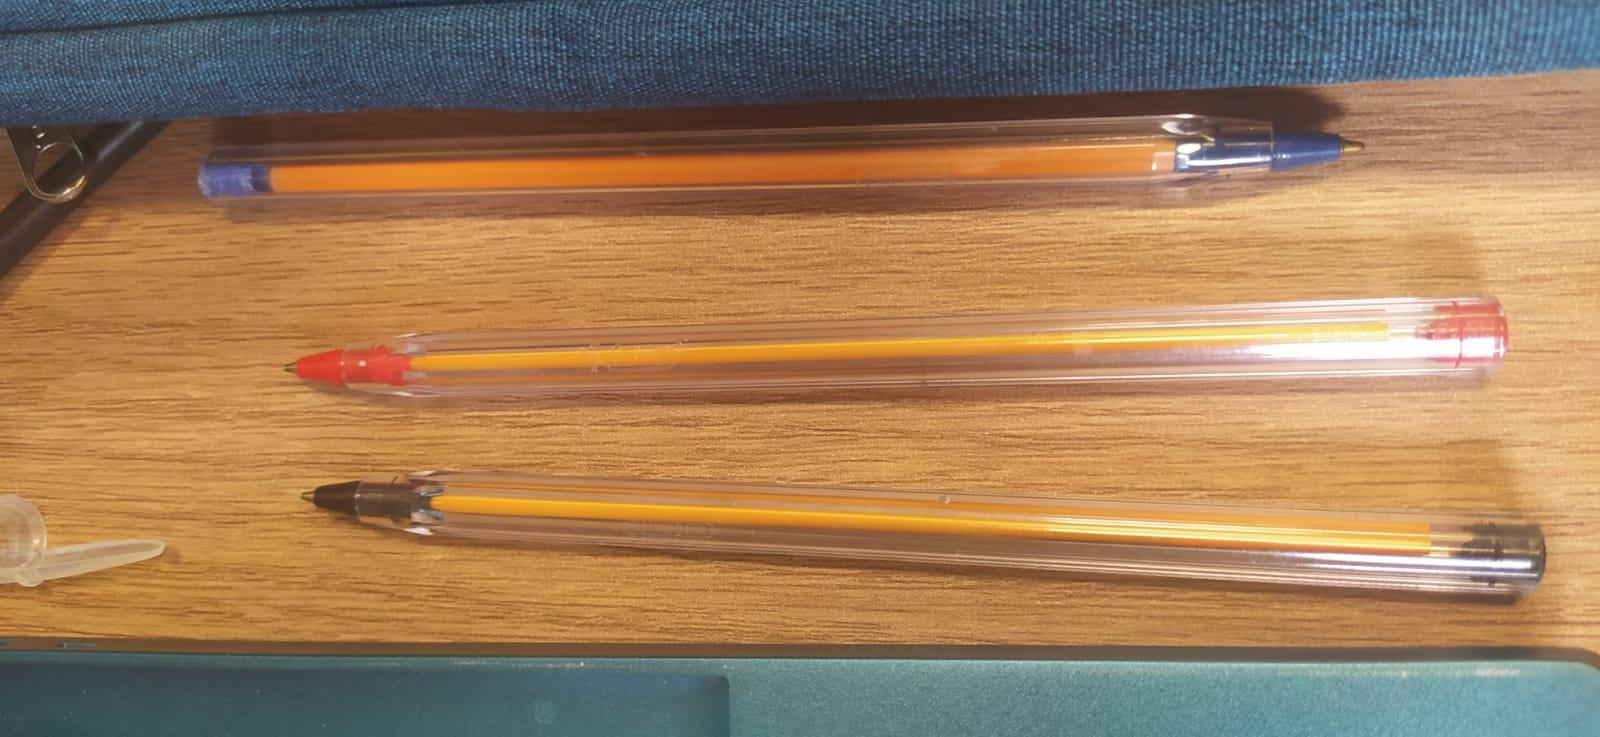pen: (303, 461, 1551, 607), (279, 296, 1511, 405), (194, 110, 1368, 210)
